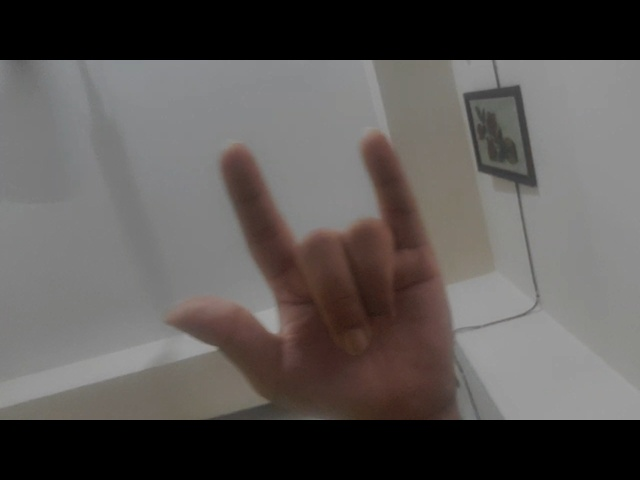I love you: (152, 119, 476, 417)
